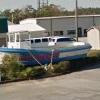Boat: (4, 24, 96, 78)
